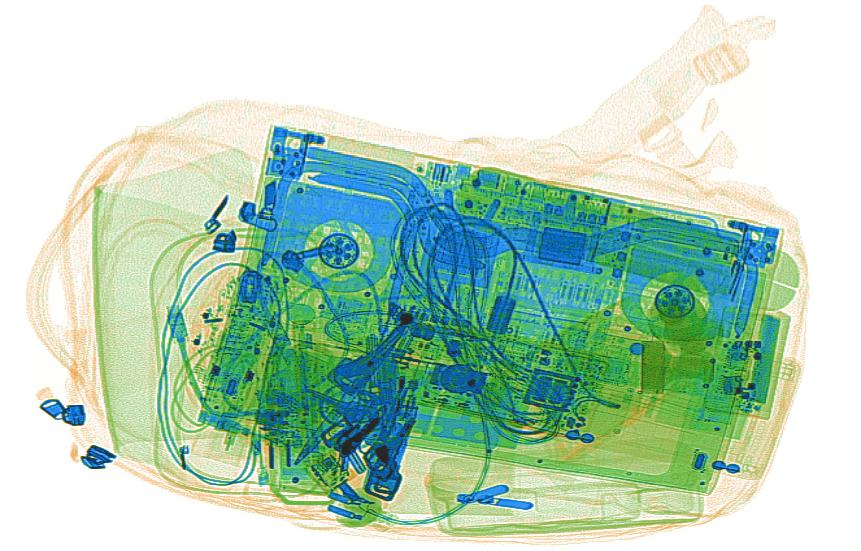battery: (742, 312, 781, 407)
seal: (638, 337, 719, 400), (648, 291, 708, 357)
